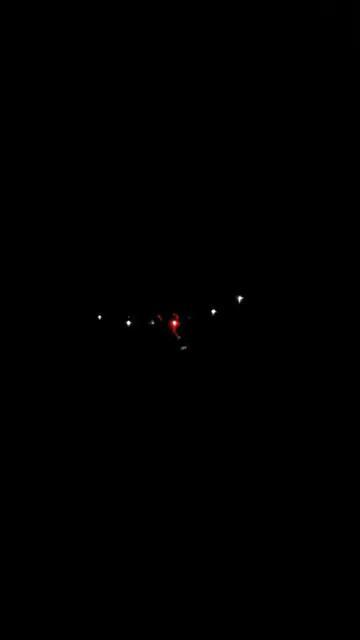Plane: (73, 280, 275, 375)
